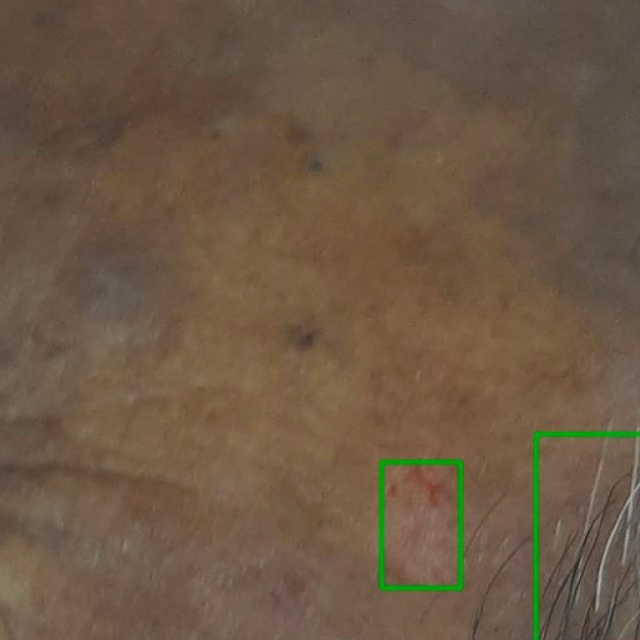Contact Dermatitis: (536, 434, 639, 639), (381, 462, 460, 588)
